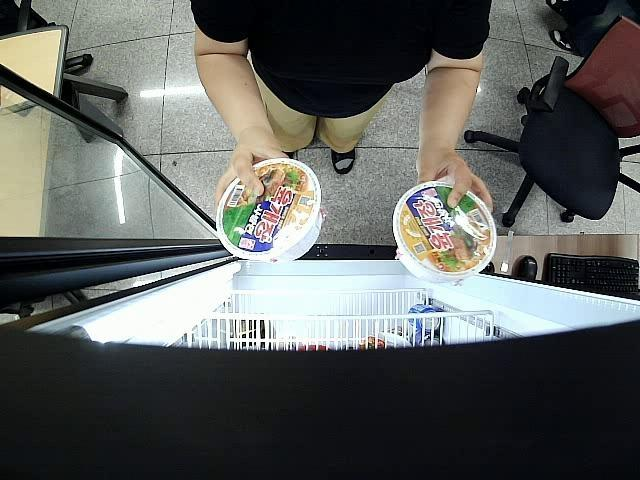09_yukGaeJang: (214, 158, 326, 266), (392, 182, 497, 284)
